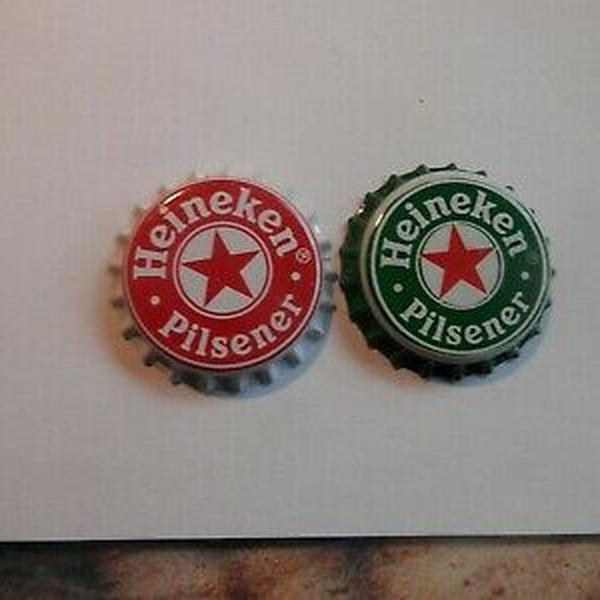heineken: (347, 162, 555, 377)
